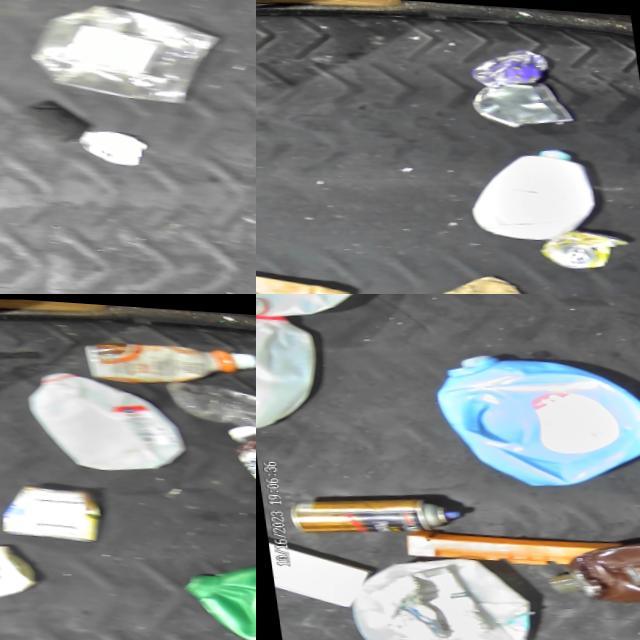can: (279, 485, 460, 540), (0, 472, 102, 544), (465, 71, 576, 125), (530, 217, 629, 267), (464, 37, 551, 84)
milk_jug: (16, 359, 186, 475), (333, 544, 531, 640), (458, 135, 602, 241), (256, 310, 324, 433), (256, 294, 396, 324)
non_white_jug: (424, 338, 640, 494), (168, 545, 256, 640)
plastic_bottle: (159, 364, 256, 430)
